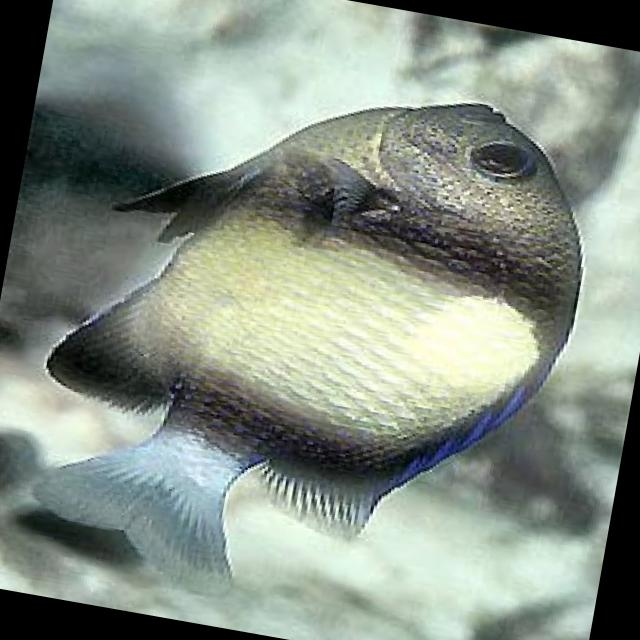ThreeStripedDamselfish: (9, 36, 614, 640)
